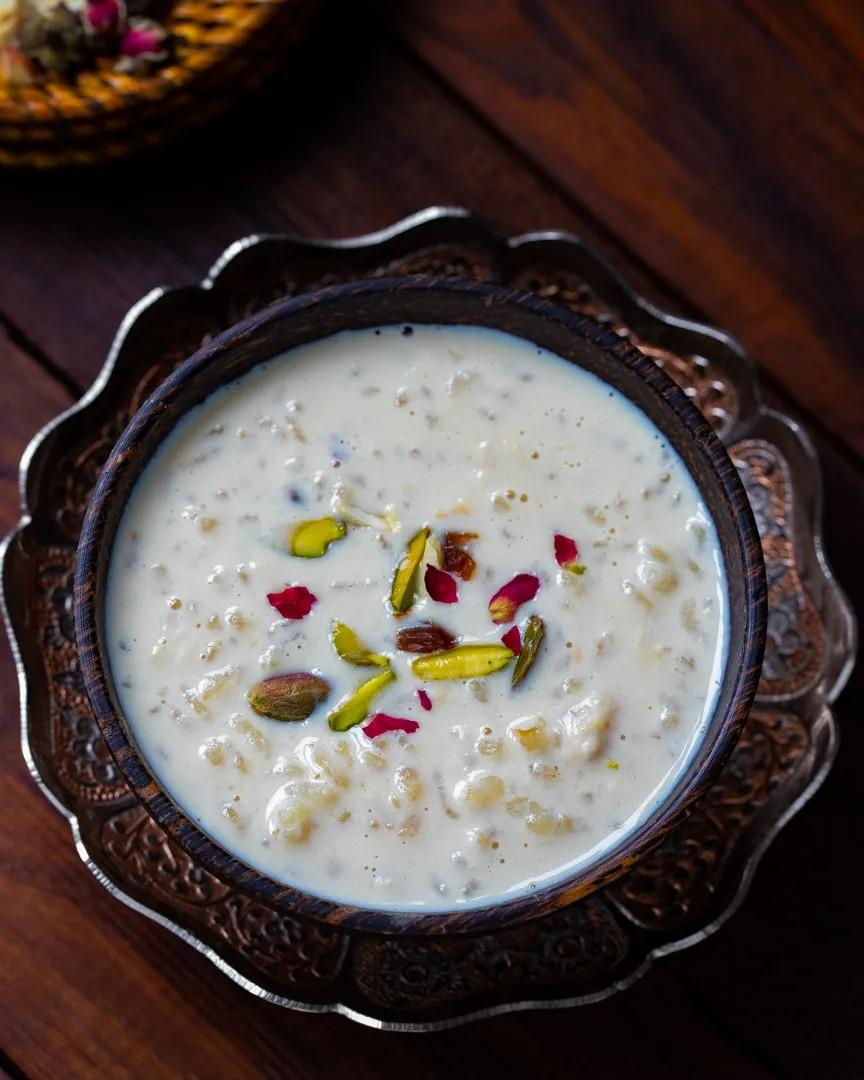Kheer: (118, 322, 732, 909)
